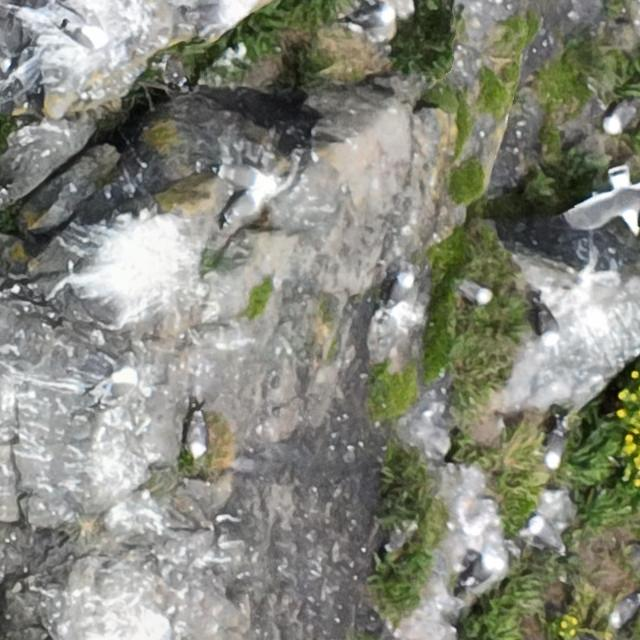F: (573, 167, 639, 242)
umineko: (378, 272, 413, 325), (458, 555, 502, 595), (218, 190, 262, 227), (212, 162, 267, 189), (58, 20, 106, 48), (532, 516, 566, 554), (604, 94, 637, 133), (109, 368, 136, 404), (611, 594, 638, 625), (354, 8, 394, 26), (189, 420, 207, 457), (546, 431, 564, 466), (463, 284, 491, 305), (538, 309, 556, 340)
